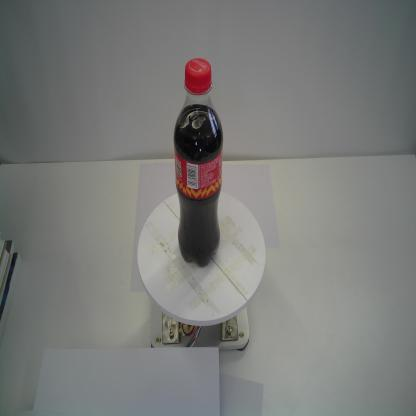Drink: (173, 58, 224, 267)
